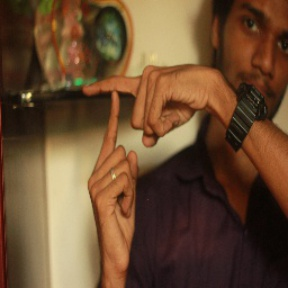T: (69, 65, 163, 191)
